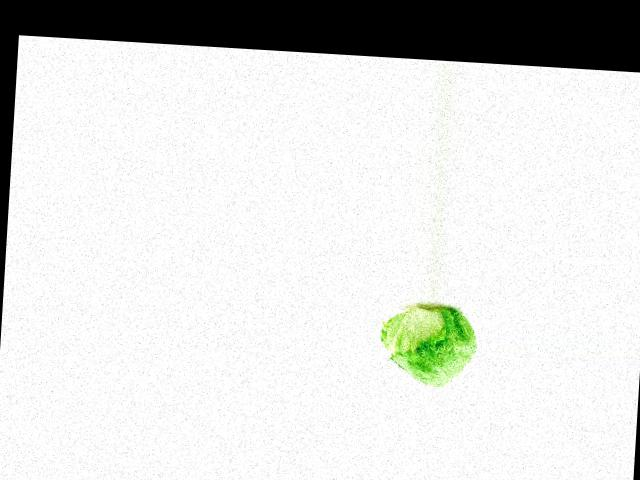lettuce: (378, 303, 481, 392)
